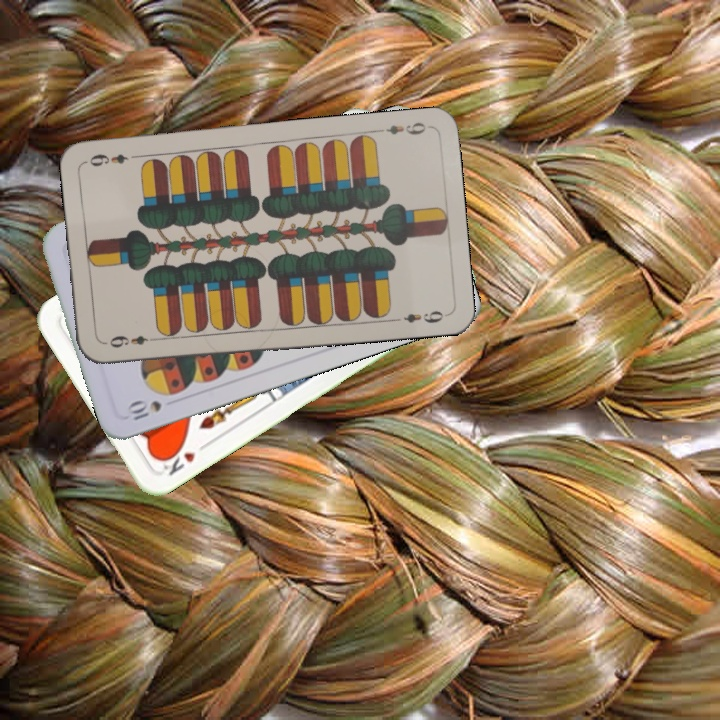E9: (373, 118, 429, 138), (105, 331, 160, 351)
HK: (156, 439, 211, 478)
S10: (123, 395, 164, 423)
